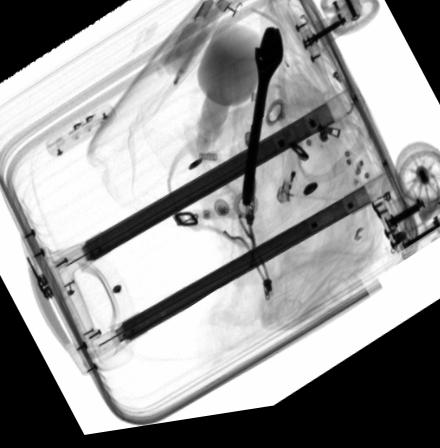Wrench: (241, 35, 284, 214)
